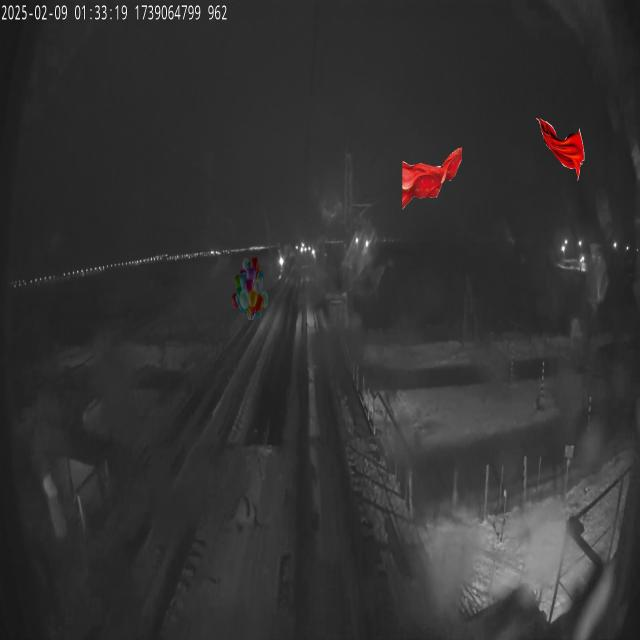balloon: (231, 256, 269, 320)
floating object: (402, 146, 462, 210), (536, 116, 584, 180)
